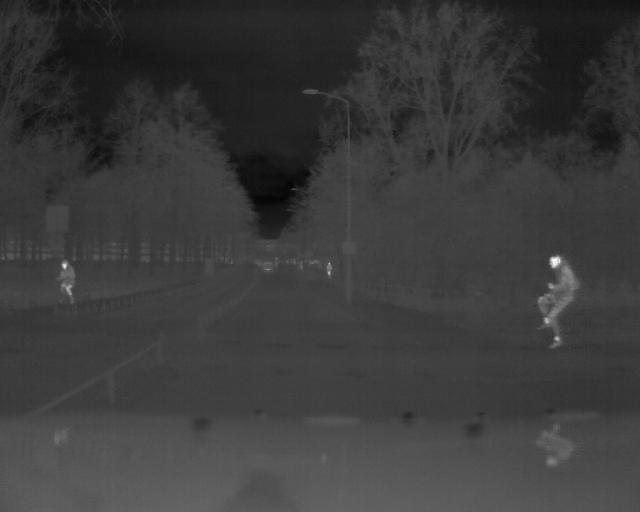person: (535, 251, 580, 359), (55, 256, 78, 310), (324, 260, 334, 285)
